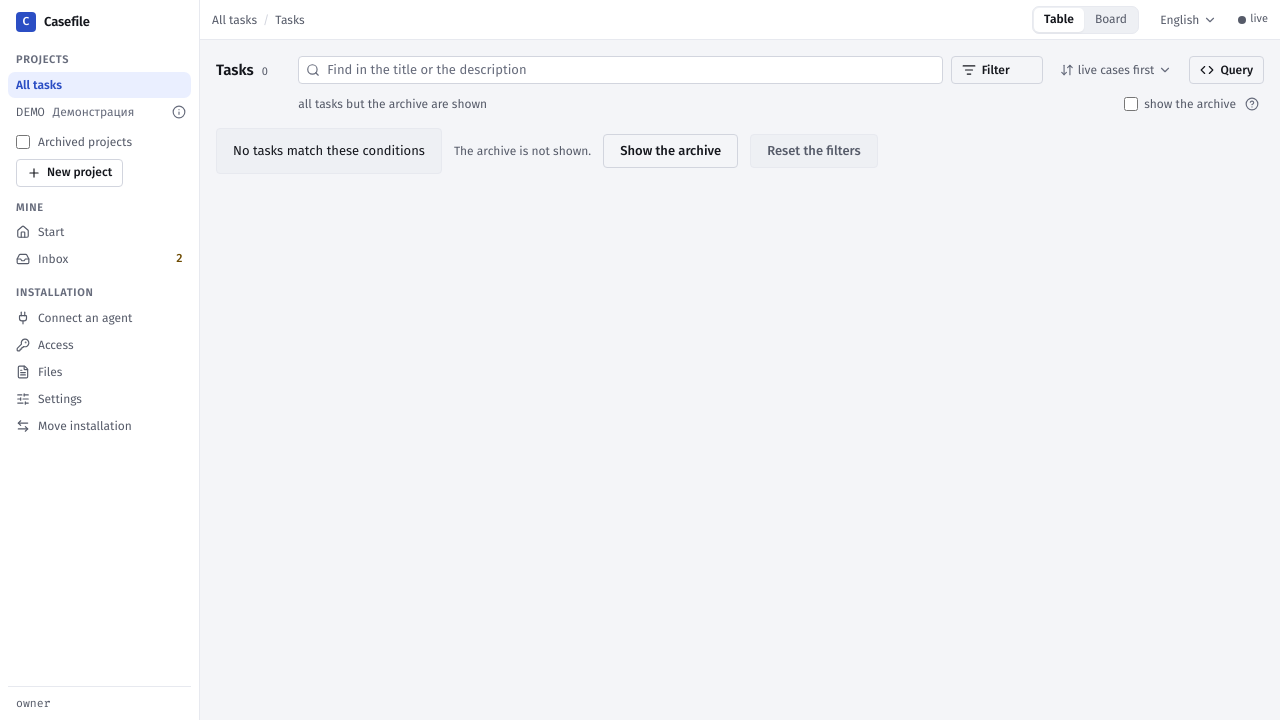
экран «Файлы» › пункт в панели ведёт на экран; карточка несёт имя, проект, размер, число ссылок
The image size is (1280, 720).
Click the link "Files" at (39, 372), box [16,364,62,378]
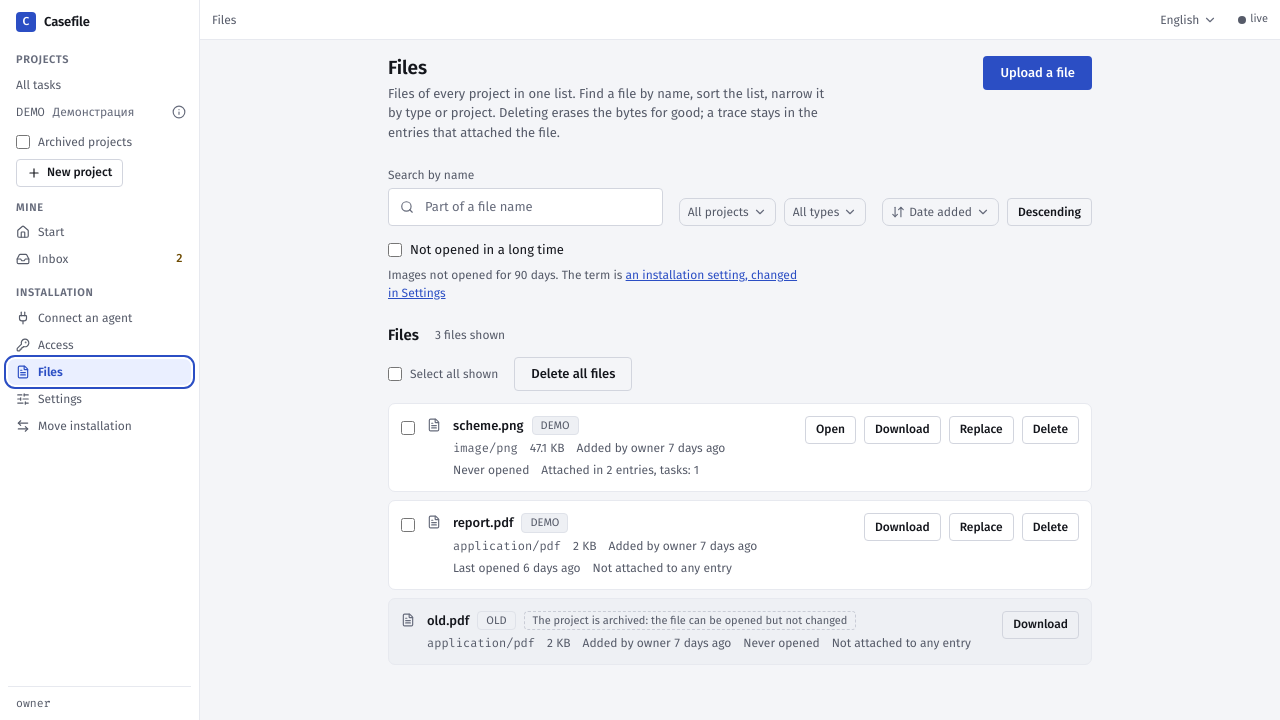
Check: the 1st heading "Files" is shown, box [388,56,427,79]
